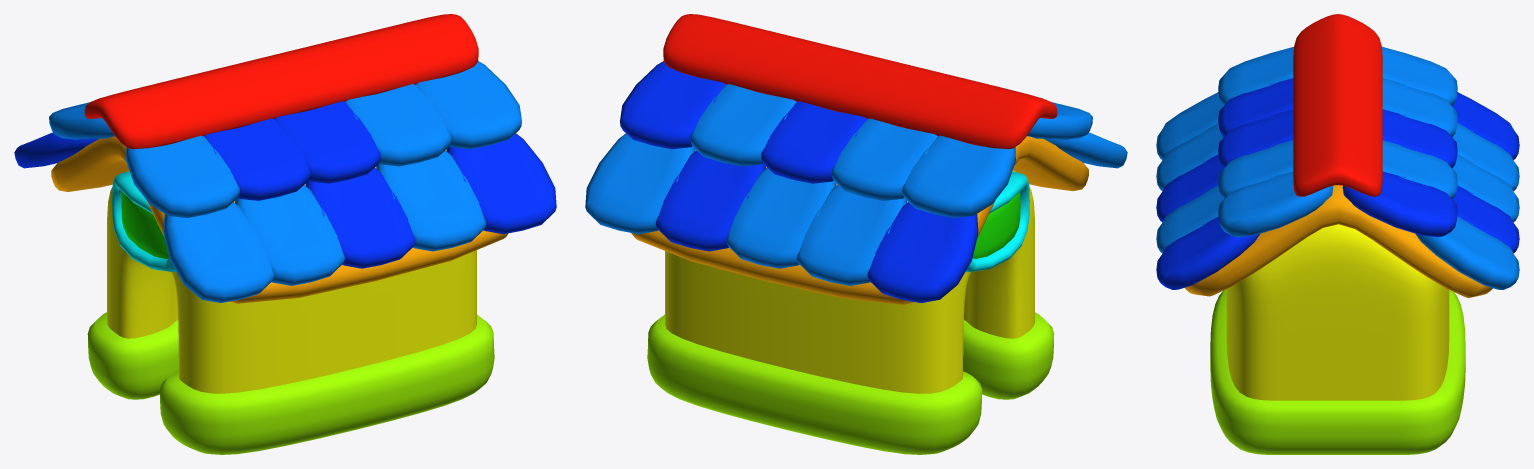
File: Niche.fbx
3 views of the same model, side by side, from view 1: azimuth 30°, elevation 25°; view 2: azimuth 150°, elevation 25°; view 3: azimuth 270°, elevation 25° (orthographic). The views are drawn at different scales.
Visible parts, largest first — view 1: Niche; view 2: Niche; view 3: Niche.
Boxes of the visible parts, x1,y1,x2,y2 form: Niche: (14,14,556,454); Niche: (585,14,1127,454); Niche: (1156,14,1519,454).
Size of the model in its own units: 156 by 143 by 166.
